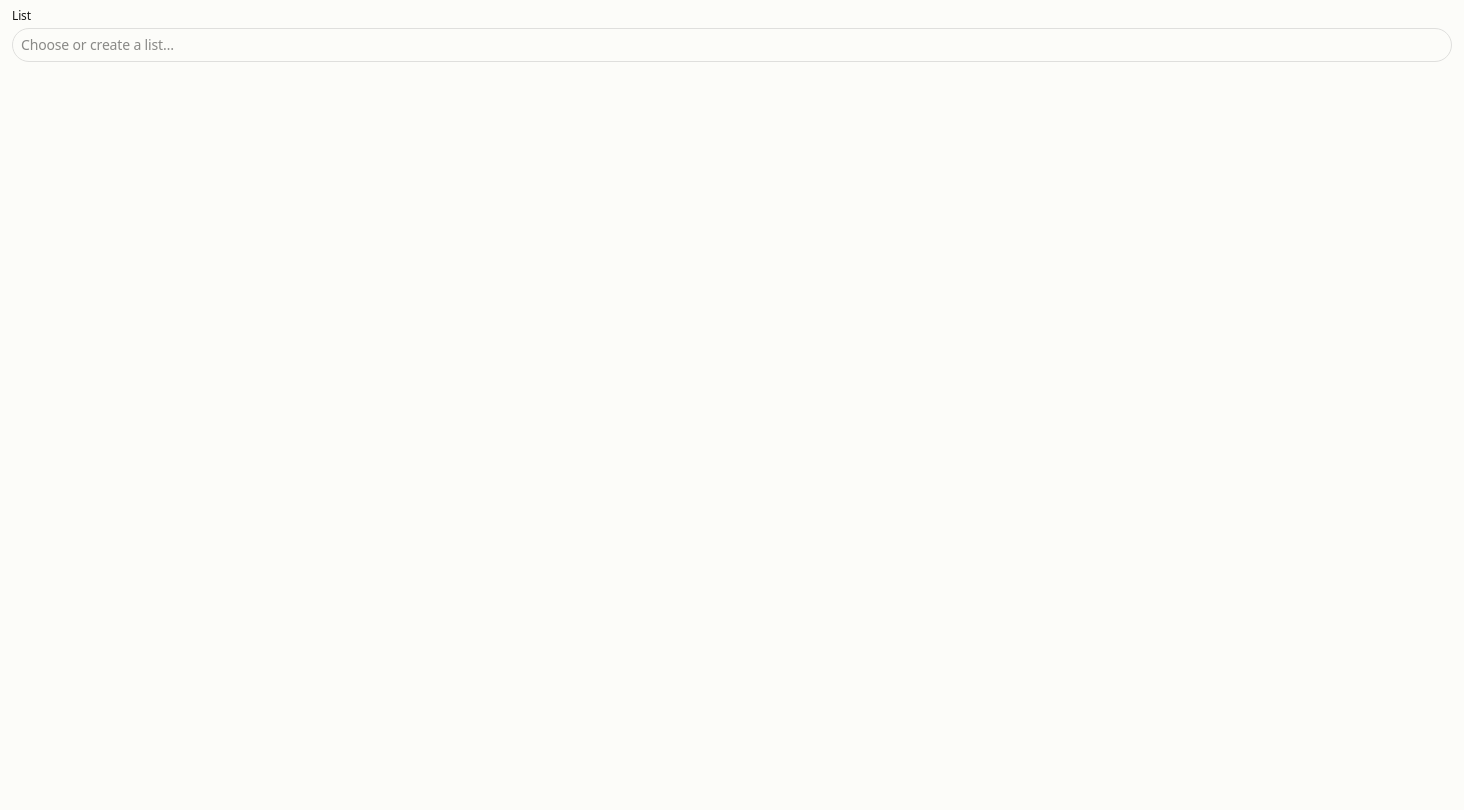
it: memberships and the one-control combobox › Escape and clicking outside close the popup without adding
Click the dropdown with test id "add-list-choice".
click(732, 45)  # box [12,28,1452,62]
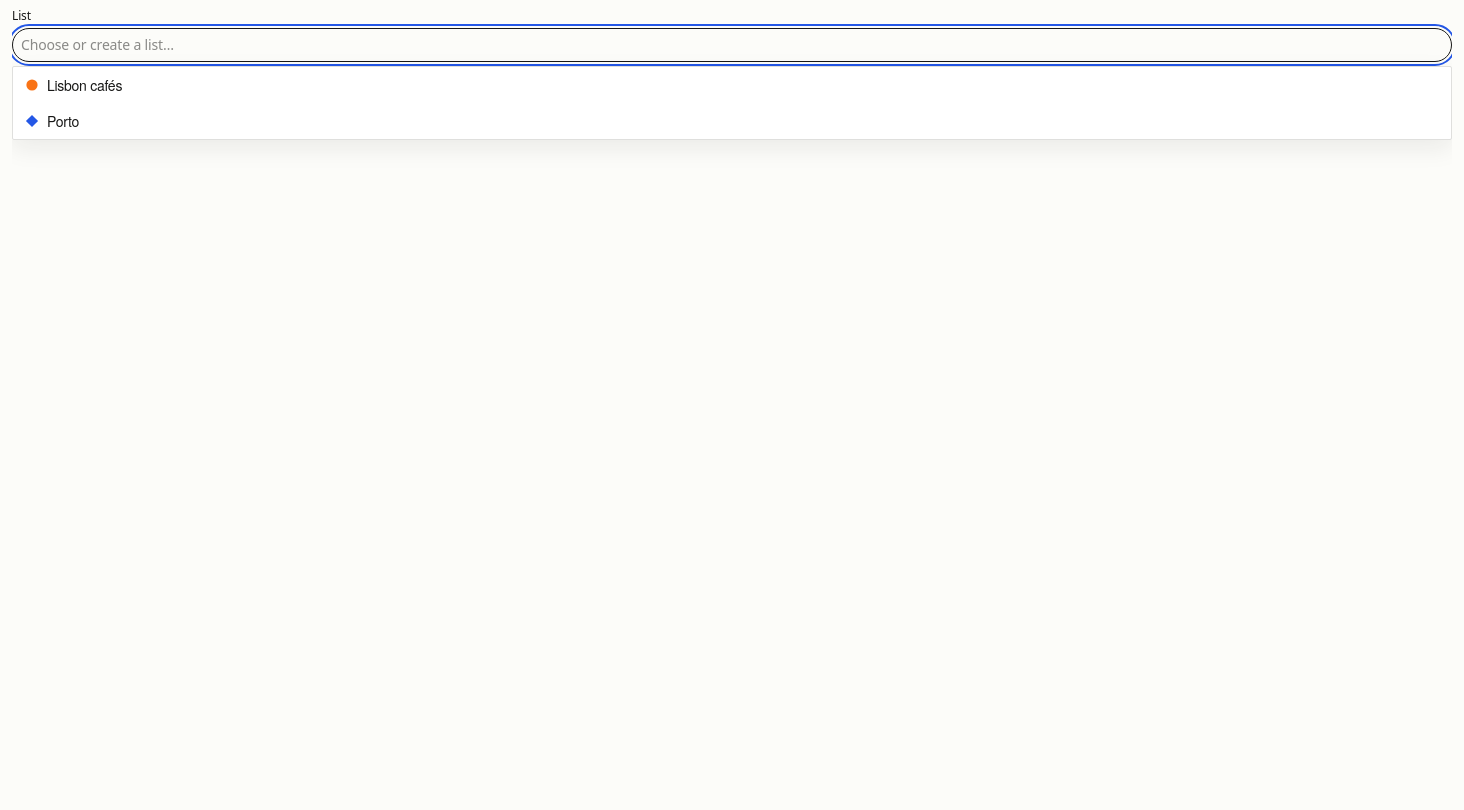
Check: the dropdown with test id "add-list-choice" is expanded, box [12,28,1452,62]
Press Escape
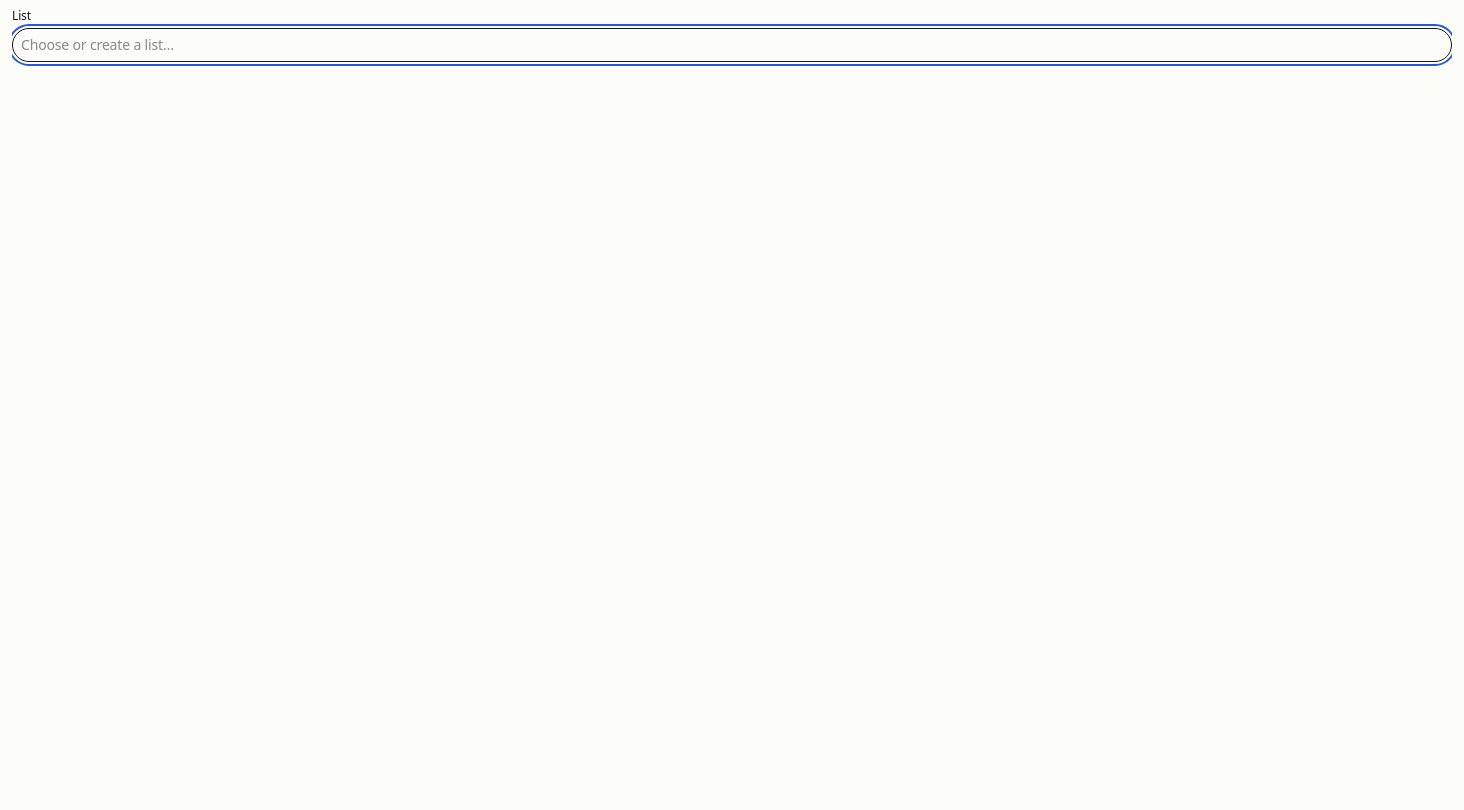
Click the dropdown with test id "add-list-choice".
click(732, 45)  # box [12,28,1452,62]
(page scrolled)
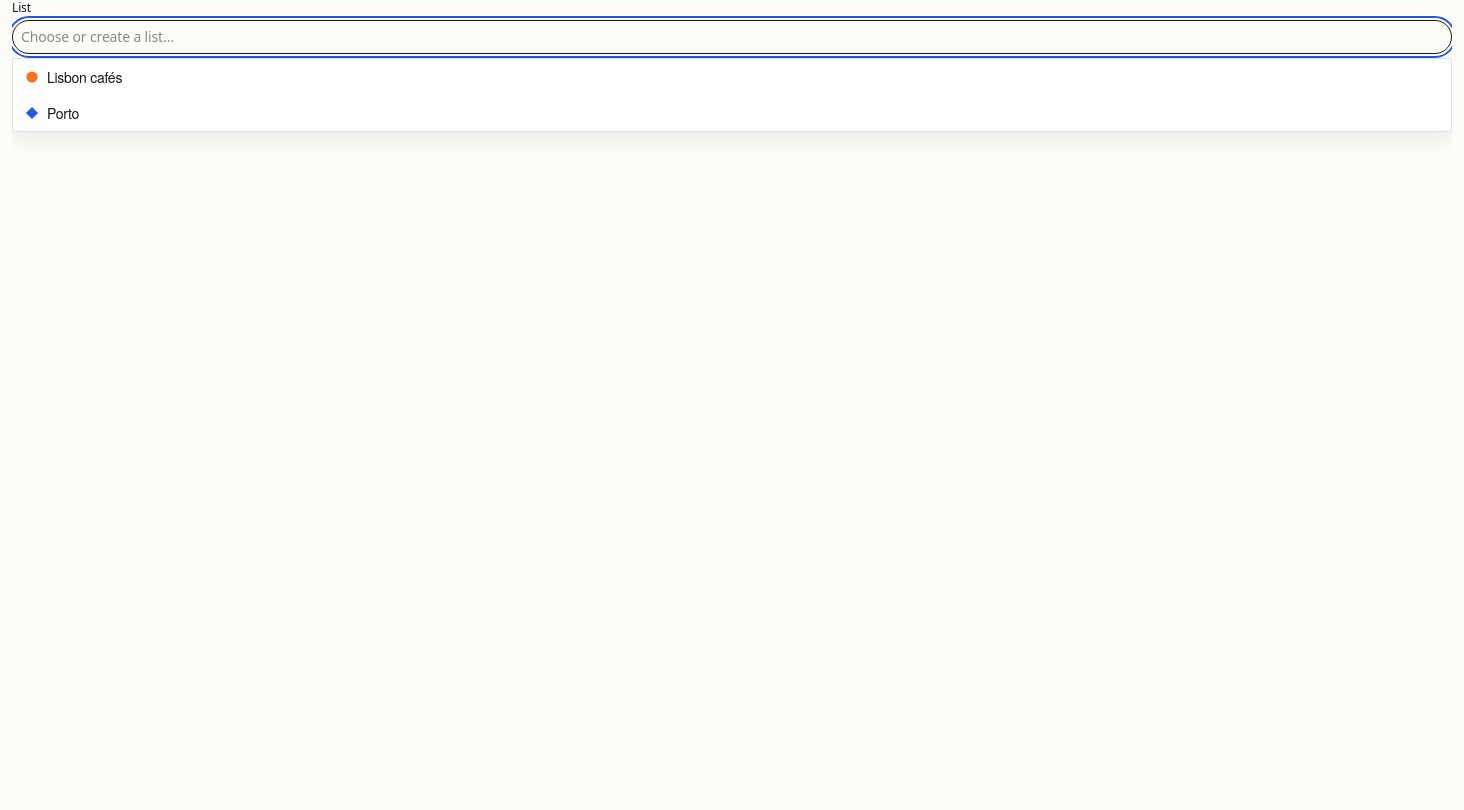
Check: the dropdown with test id "add-list-choice" is expanded, box [12,20,1452,54]
Click the element showing "List Lisbon cafés Porto".
click(732, 405)  # box [12,0,1452,809]
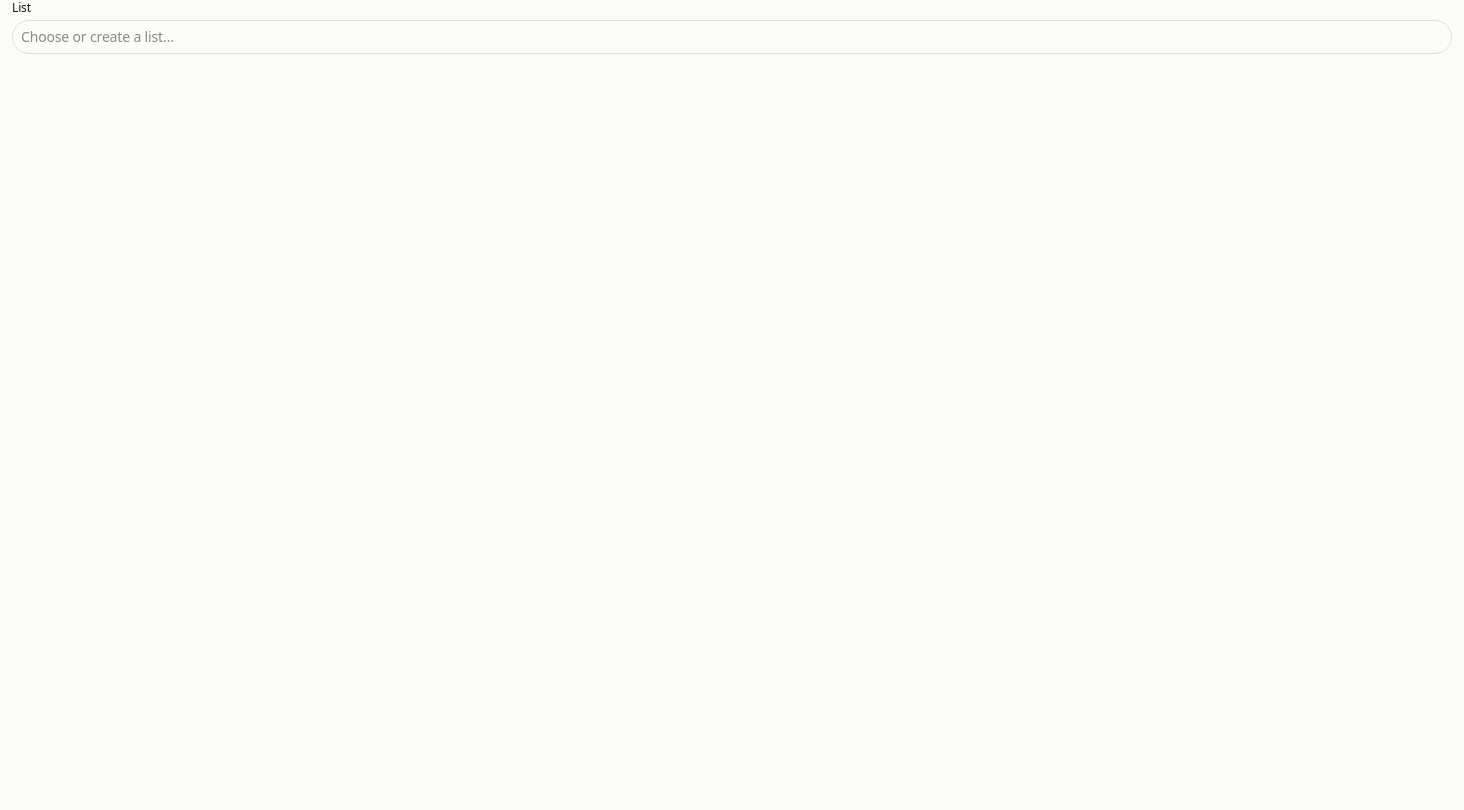
Check: the dropdown with test id "add-list-choice" is collapsed, box [12,20,1452,54]
